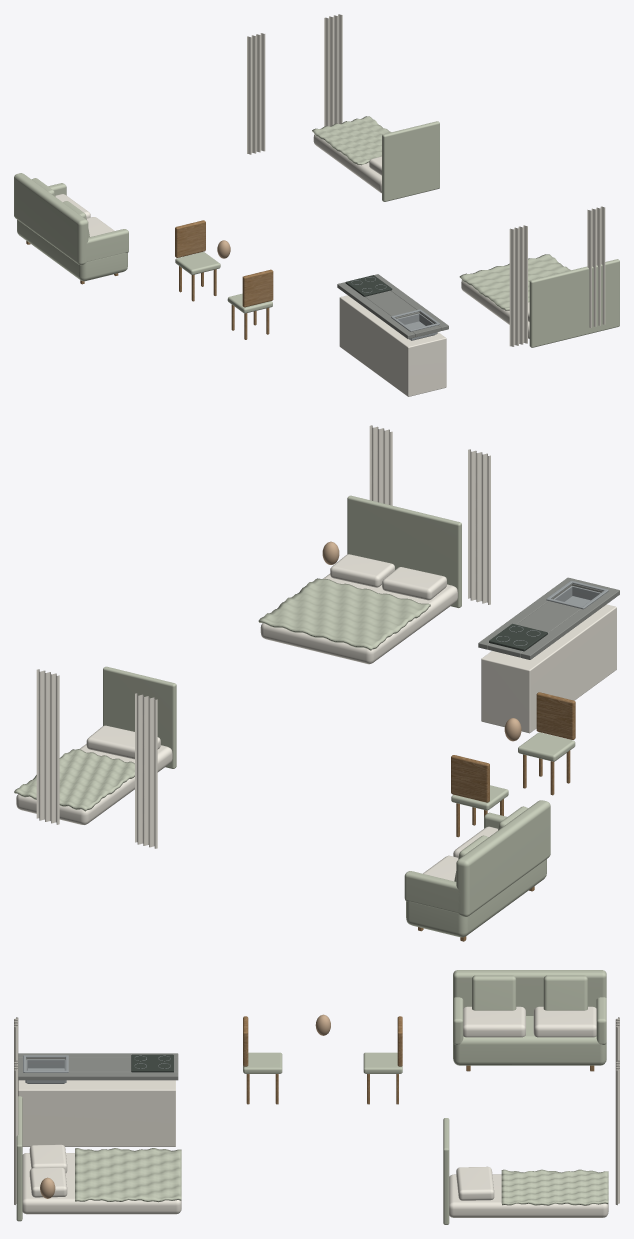
File: interior-blender-v4.glb
3 renders of one model, top to bottom at view 1: azimuth 30°, elevation 25°; view 2: azimuth 150°, elevation 25°; view 3: azimuth 270°, elevation 25°, orthographic. The views are drawn at different scales.
Visible parts, largest first — view 1: V04 Corpo baixo gabinete, V04 Cabeceira estofada, V04 Cabeceira estofada.001, V04 Sofá encosto, V04 Cortina contínua.003, V04 Cortina contínua.001, V04 Edredom com dobras.001, V04 Edredom com dobras, V04 Cortina contínua, V04 Cortina contínua.002, V04 Sofá base, V04 Braço sofá.001 (+9 smaller); view 2: V04 Corpo baixo gabinete, V04 Cabeceira estofada, V04 Edredom com dobras, V04 Sofá encosto, V04 Cabeceira estofada.001, V04 Edredom com dobras.001, V04 Cortina contínua, V04 Colchão, V04 Cortina contínua.001, V04 Cortina contínua.003, V04 Sofá base, V04 Colchão.001 (+12 smaller); view 3: V04 Corpo baixo gabinete, V04 Edredom com dobras, V04 Sofá base, V04 Edredom com dobras.001, V04 Colchão, V04 Sofá encosto, V04 Colchão.001, V04 Almofada assento, V04 Almofada assento.001, V04 Almofada solta, V04 Almofada solta.001, V04 Bancada lateral cuba (+15 smaller).
Boxes of the visible parts, box(x1,y1,x2,y2) form: V04 Corpo baixo gabinete: box(339, 295, 446, 396); V04 Cabeceira estofada: box(529, 259, 619, 347); V04 Cabeceira estofada.001: box(382, 121, 439, 201); V04 Sofá encosto: box(14, 173, 88, 265); V04 Cortina contínua.003: box(509, 225, 527, 346); V04 Cortina contínua.001: box(247, 33, 265, 154); V04 Edredom com dobras.001: box(312, 116, 391, 165); V04 Edredom com dobras: box(459, 254, 571, 310); V04 Cortina contínua: box(324, 14, 342, 126); V04 Cortina contínua.002: box(587, 206, 605, 327); V04 Sofá base: box(17, 219, 127, 281); V04 Braço sofá.001: box(86, 229, 128, 261); V04 Corpo baixo gabinete: box(481, 604, 616, 733); V04 Cabeceira estofada: box(347, 495, 461, 608); V04 Edredom com dobras: box(258, 578, 430, 650); V04 Sofá encosto: box(456, 800, 550, 916); V04 Cabeceira estofada.001: box(103, 666, 176, 768); V04 Edredom com dobras.001: box(14, 749, 134, 811); V04 Cortina contínua: box(36, 669, 59, 824); V04 Colchão: box(260, 573, 457, 664); V04 Cortina contínua.001: box(135, 693, 157, 848); V04 Cortina contínua.003: box(468, 449, 490, 604); V04 Sofá base: box(406, 859, 546, 937); V04 Colchão.001: box(16, 744, 172, 824); V04 Corpo baixo gabinete: box(18, 1080, 175, 1146); V04 Edredom com dobras: box(75, 1148, 181, 1202); V04 Sofá base: box(453, 1016, 606, 1065); V04 Edredom com dobras.001: box(501, 1169, 608, 1205); V04 Colchão: box(22, 1153, 181, 1214); V04 Sofá encosto: box(453, 970, 606, 1015); V04 Colchão.001: box(449, 1174, 608, 1217); V04 Almofada assento: box(533, 1006, 596, 1037); V04 Almofada assento.001: box(463, 1006, 525, 1037); V04 Almofada solta: box(543, 975, 587, 1010); V04 Almofada solta.001: box(472, 975, 516, 1010); V04 Bancada lateral cuba: box(18, 1072, 178, 1080).
Size of the model in its own units: 5.54 by 2.14 by 7.1.
Materials: 7 (1 with a texture image).
